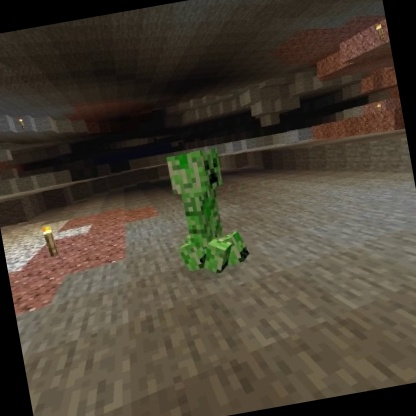creeper: (158, 142, 255, 285)
